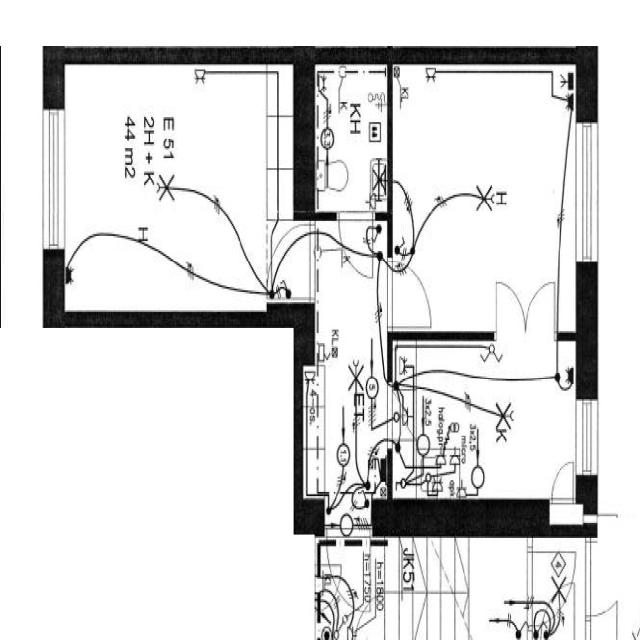door: (484, 274, 560, 344), (267, 222, 317, 302), (387, 256, 435, 334), (332, 208, 375, 270), (548, 456, 580, 512)
window: (568, 107, 605, 280), (36, 90, 72, 262), (574, 391, 602, 487), (330, 514, 373, 543)
zone: (390, 60, 576, 327), (57, 66, 288, 215), (392, 333, 588, 504), (302, 272, 388, 527), (310, 61, 392, 216)
